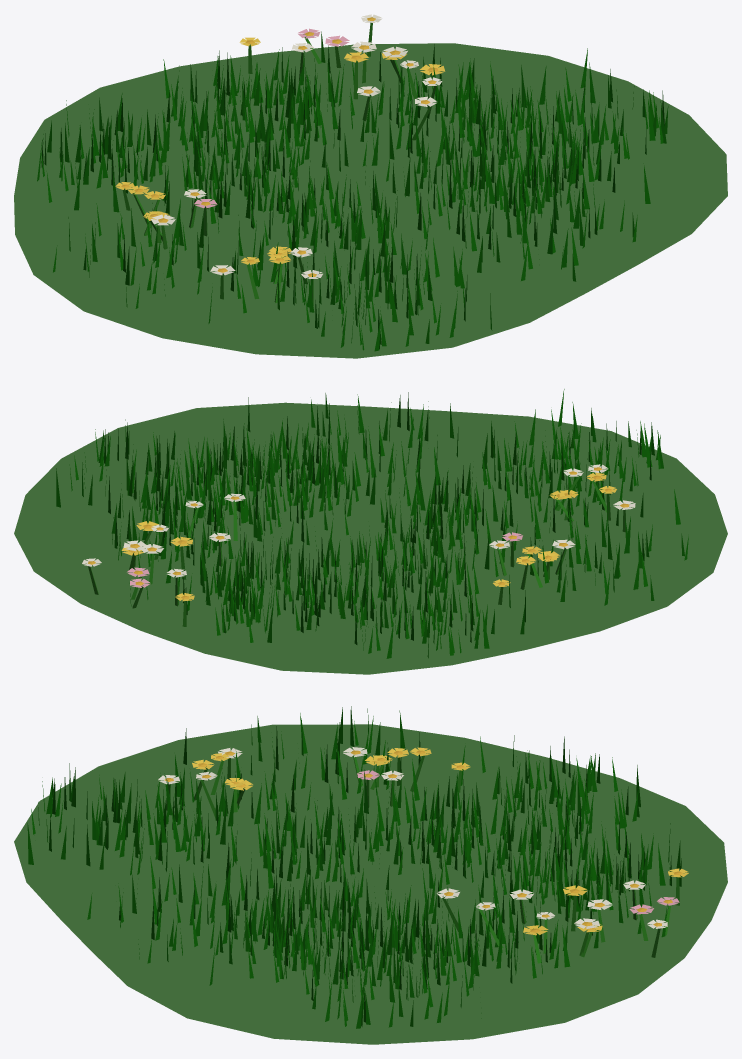
Rendered from Isle Road.glb.
3 renders of one model, top to bottom at view 1: azimuth 30°, elevation 25°; view 2: azimuth 150°, elevation 25°; view 3: azimuth 270°, elevation 25°, orthographic. The views are drawn at different scales.
Visible parts, largest first — view 1: HexTile_Master, Grass_Patches_Mini, Grass_Patches_Mini.001, Flowers_Patches_Mini; view 2: HexTile_Master, Grass_Patches_Mini.001, Grass_Patches_Mini, Flowers_Patches_Mini; view 3: HexTile_Master, Grass_Patches_Mini.001, Grass_Patches_Mini, Flowers_Patches_Mini.
Part boxes in pixels (left/top/right/bottom): HexTile_Master: left=14, top=43, right=727, bottom=358; Grass_Patches_Mini: left=37, top=31, right=668, bottom=281; Grass_Patches_Mini.001: left=53, top=44, right=624, bottom=351; Flowers_Patches_Mini: left=115, top=14, right=445, bottom=305; HexTile_Master: left=14, top=402, right=727, bottom=674; Grass_Patches_Mini.001: left=111, top=389, right=688, bottom=625; Grass_Patches_Mini: left=56, top=392, right=580, bottom=658; Flowers_Patches_Mini: left=82, top=464, right=635, bottom=626; HexTile_Master: left=14, top=724, right=727, bottom=1044; Grass_Patches_Mini.001: left=27, top=706, right=605, bottom=988; Grass_Patches_Mini: left=87, top=735, right=681, bottom=1028; Flowers_Patches_Mini: left=158, top=747, right=688, bottom=963.
Size of the model in its own units: 0.8309 by 0.0523 by 0.7827.
